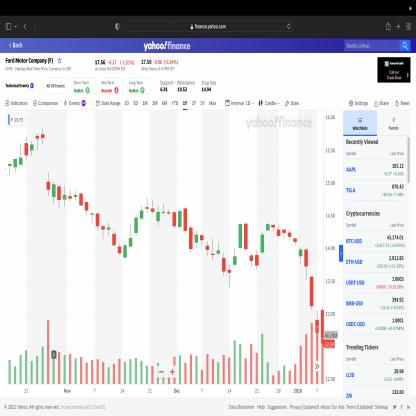Bearish: Engulfing: (177, 204, 188, 235)
Bullish: 3 White Soldiers: (122, 212, 139, 262), (128, 204, 144, 250)
Bullish: Kicker: (254, 229, 265, 272)
Bullish: Morning Star Doji: (221, 246, 238, 289)
